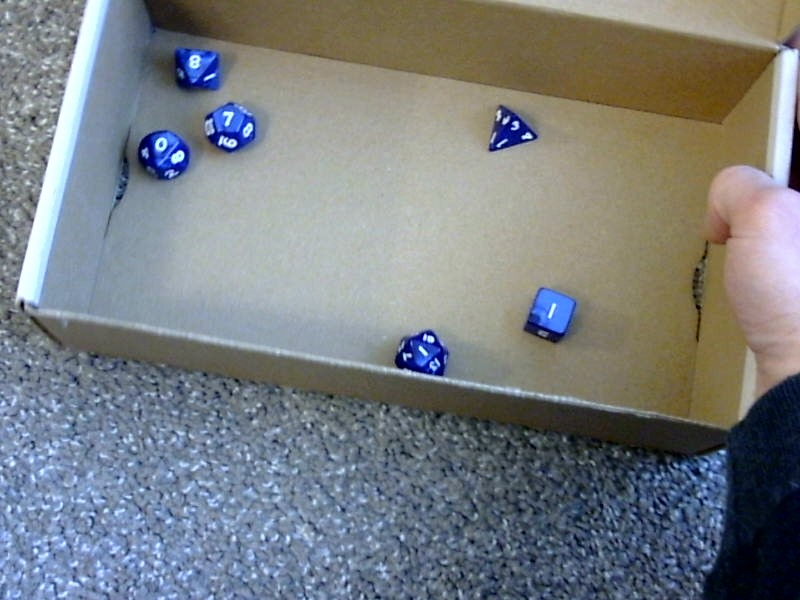d10 10: (135, 128, 191, 182)
d12 7: (200, 102, 256, 152)
d20 1: (388, 323, 450, 383)
d4 3: (486, 100, 538, 154)
d6 1: (520, 277, 579, 344)
d8 8: (168, 40, 224, 93)
